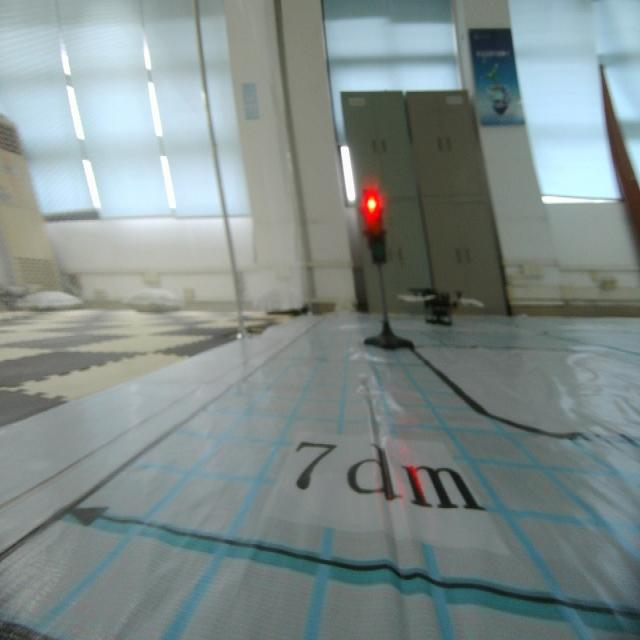red: (358, 187, 390, 269)
